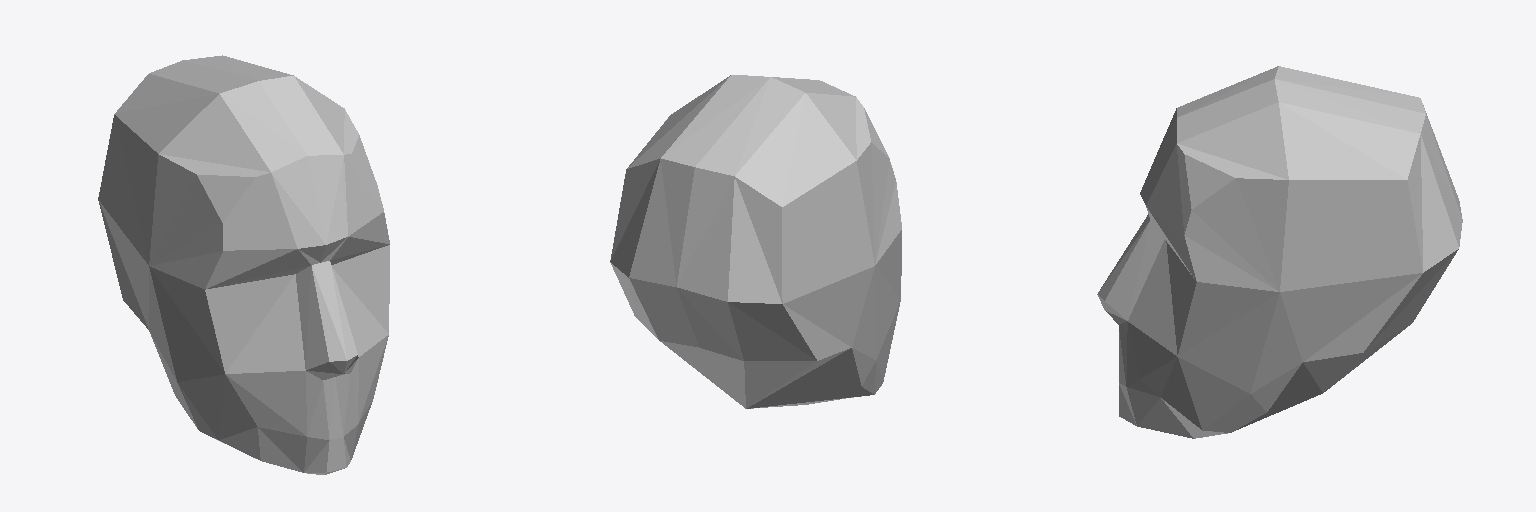
File: Head.obj
3 renders of one model, left to right at view 1: azimuth 30°, elevation 25°; view 2: azimuth 150°, elevation 25°; view 3: azimuth 270°, elevation 25°, orthographic.
Parts seen in each view (by area): view 1: Plane; view 2: Plane; view 3: Plane.
Boxes of the visible parts, box(x1,y1,x2,y2) form: Plane: box(98, 55, 389, 474); Plane: box(610, 75, 901, 408); Plane: box(1097, 66, 1462, 438).
Bounding box in the file's own units: 3.66 × 5.78 × 5.41.